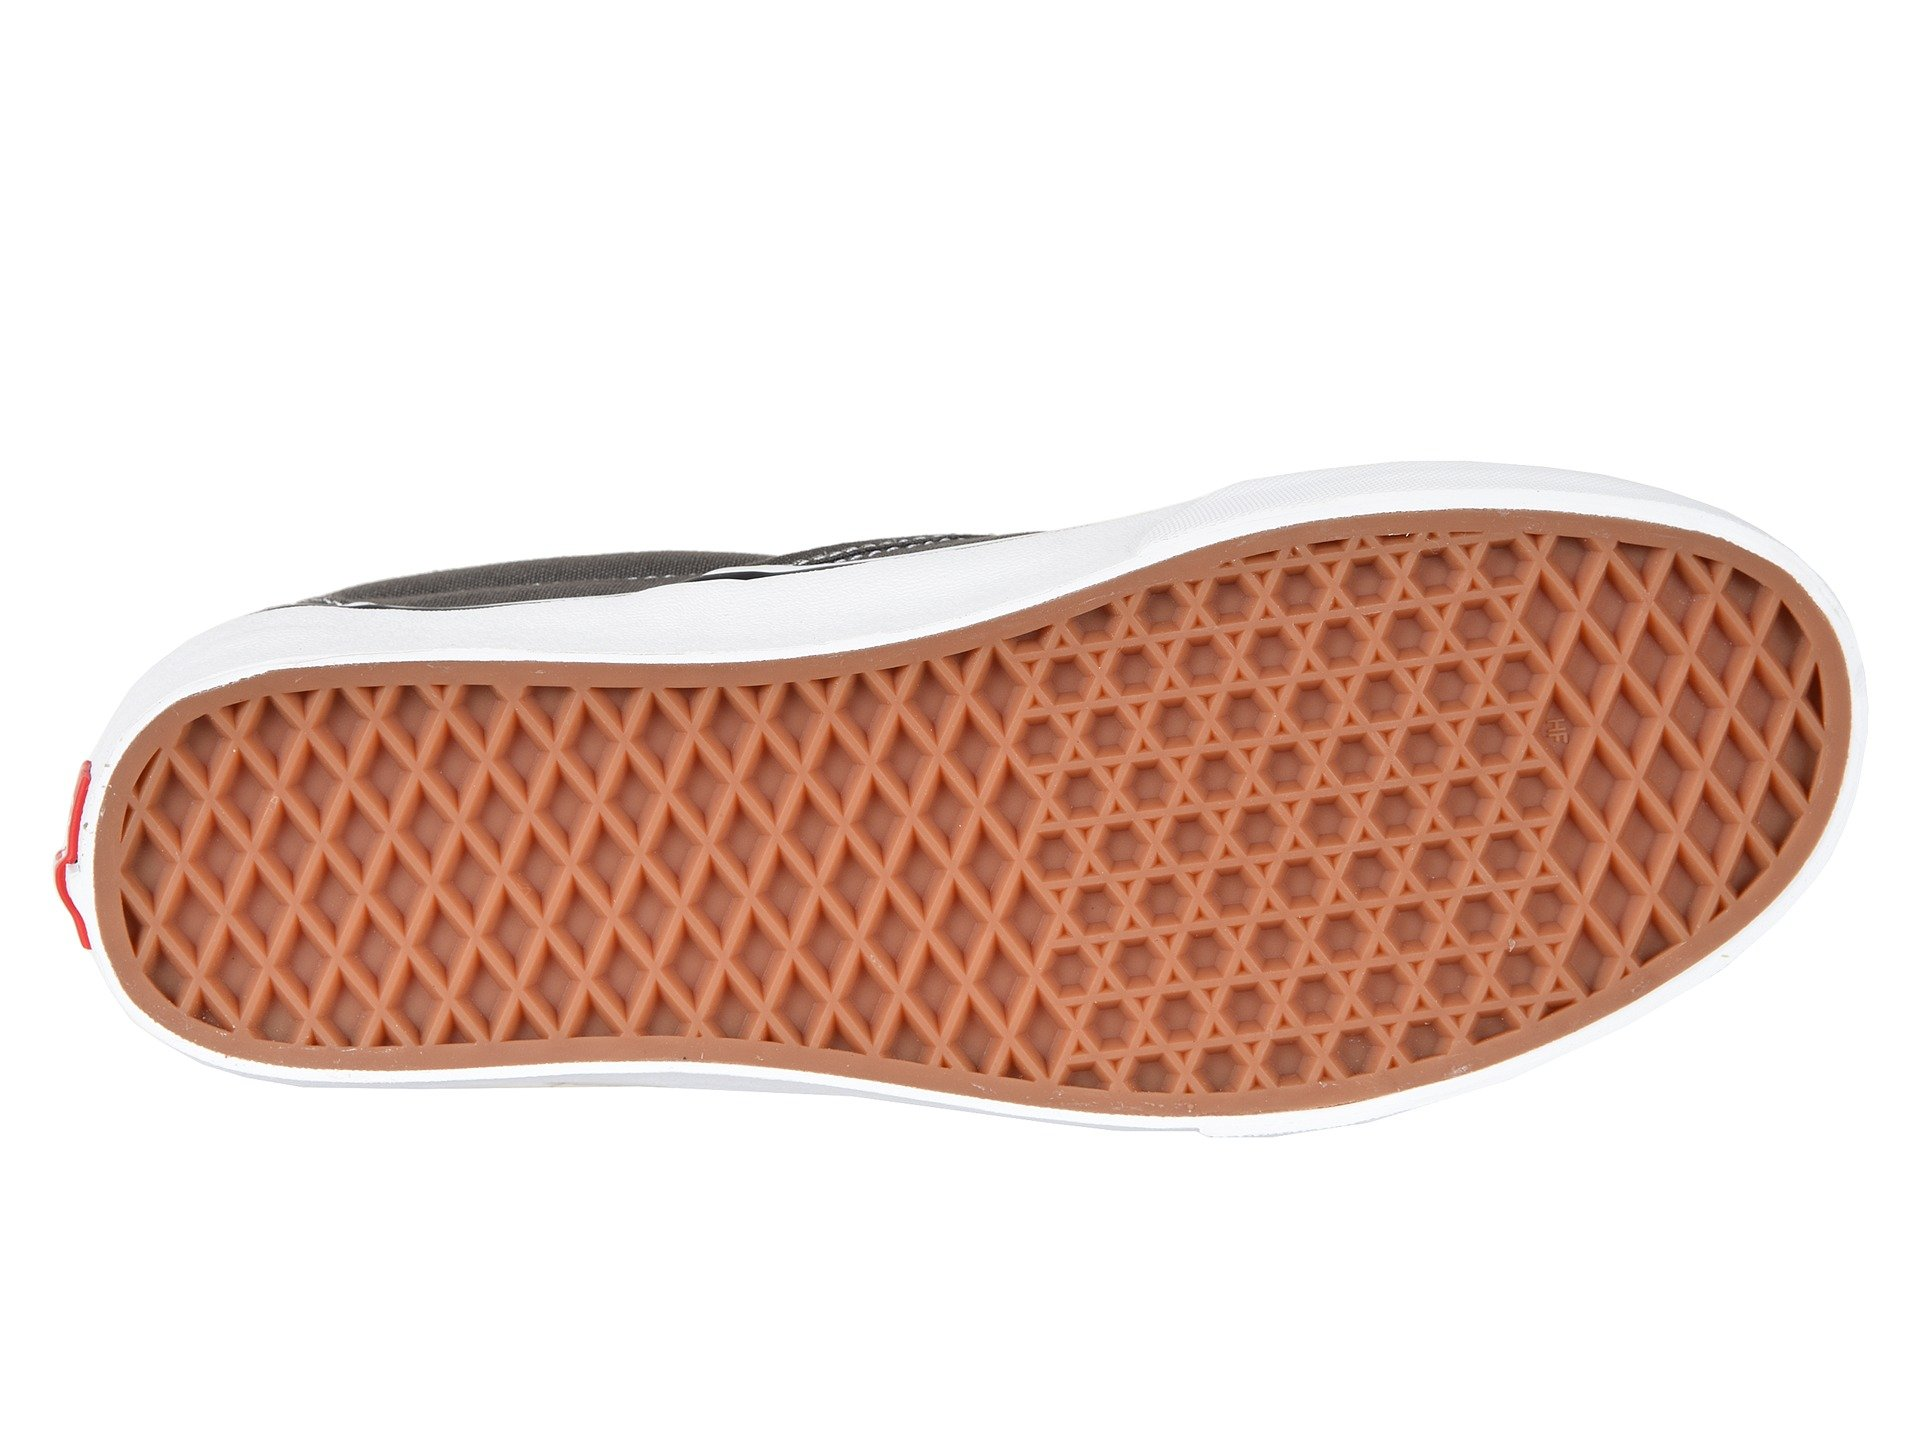polygon: (1033, 133, 1326, 419), (1095, 434, 1435, 658), (1336, 86, 1559, 316), (1447, 446, 1589, 579)
quad: (497, 209, 862, 528), (115, 194, 457, 502), (1572, 192, 1831, 422), (874, 430, 1033, 579), (877, 198, 1016, 354)
triangle: (1033, 133, 1326, 419), (1095, 434, 1435, 658), (1336, 86, 1559, 316), (1447, 446, 1589, 579)
